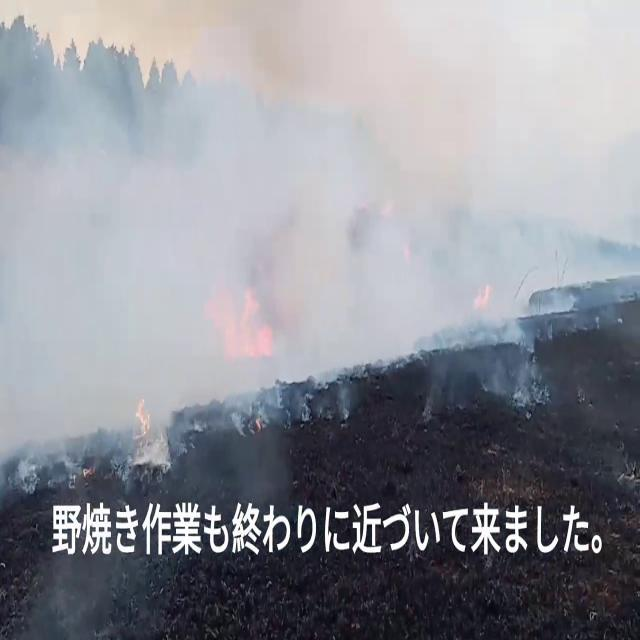Smoke: (1, 4, 553, 412)
